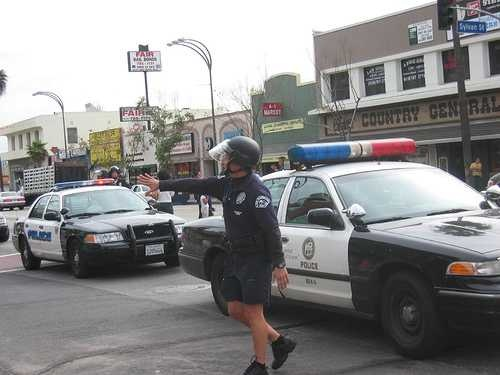Police Car: (178, 136, 500, 354), (0, 157, 183, 283)
